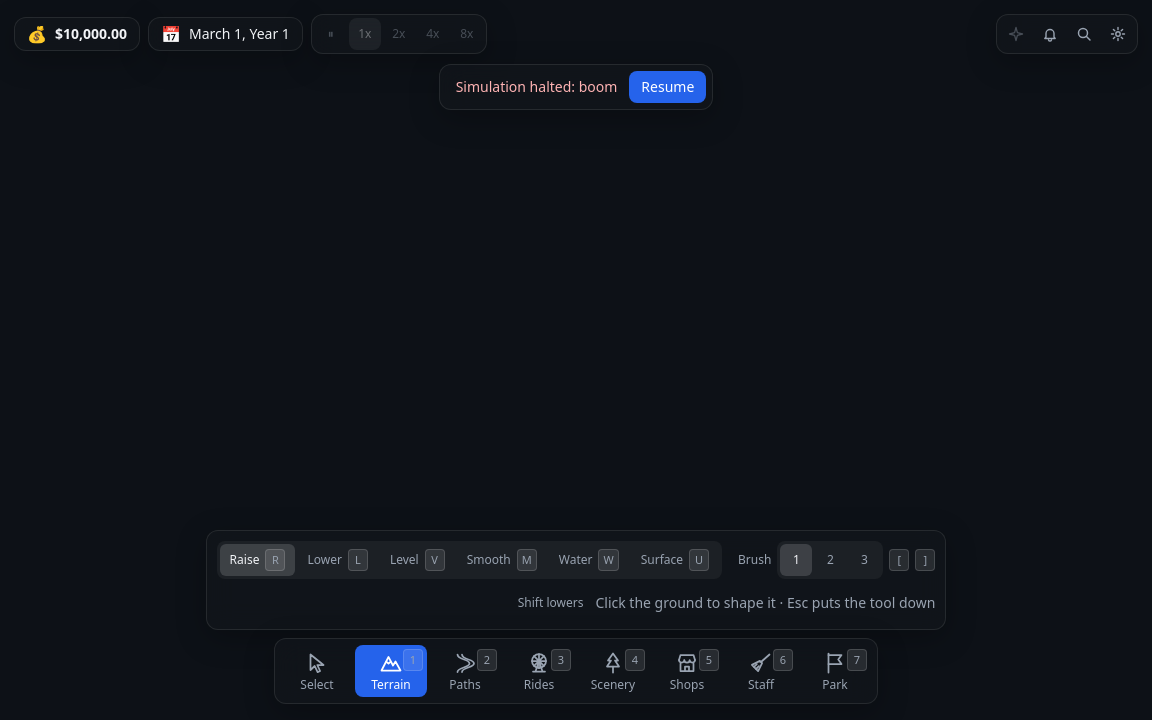
Test: a halted simulation › tells the player when Resume fails
This screenshot has width=1152, height=720.
Click the button "Resume".
click(668, 87)  # box x1=629 y1=71 x2=706 y2=103
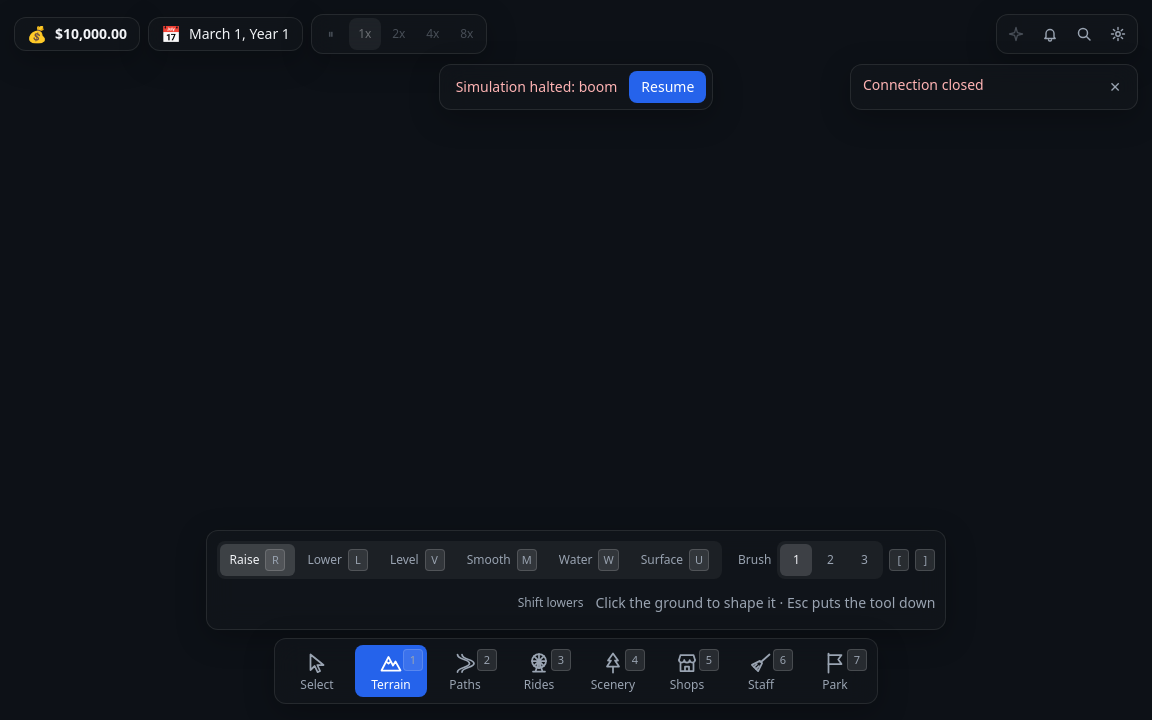
Check: the text "Connection closed" is shown, box x1=863 y1=75 x2=984 y2=94
